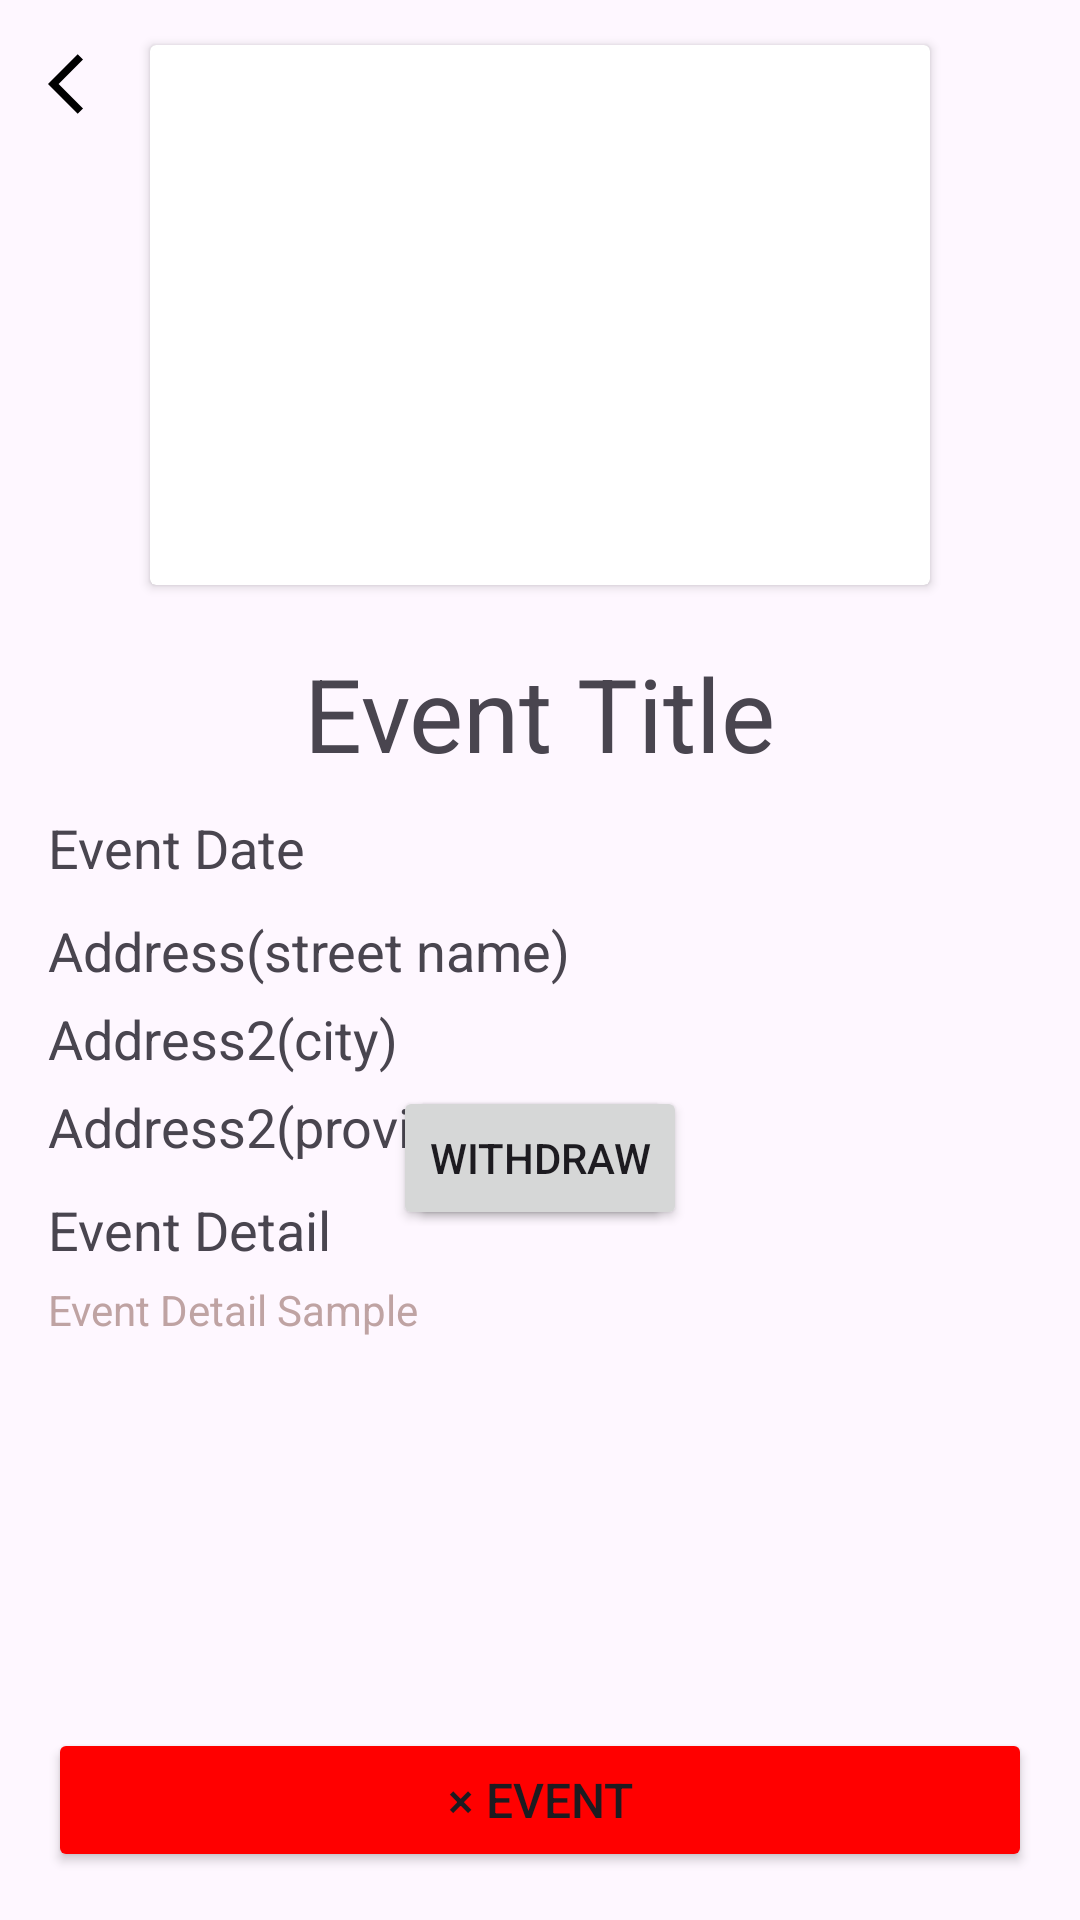

Where icons sit on this 1080*1920 app screen, as (x1, y1, x2, y2):
back arrow: (48, 54, 83, 114)
